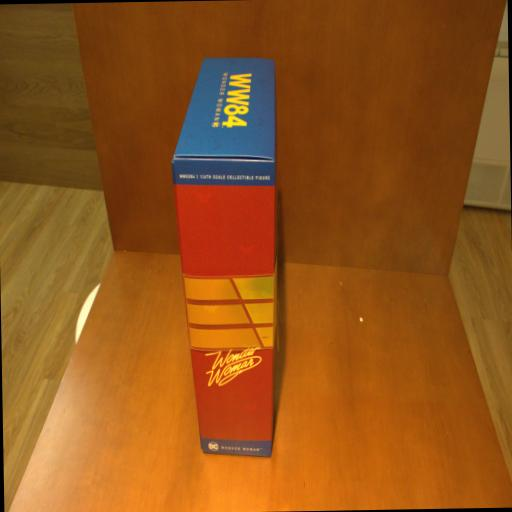WonderWoman: (168, 56, 284, 460)
